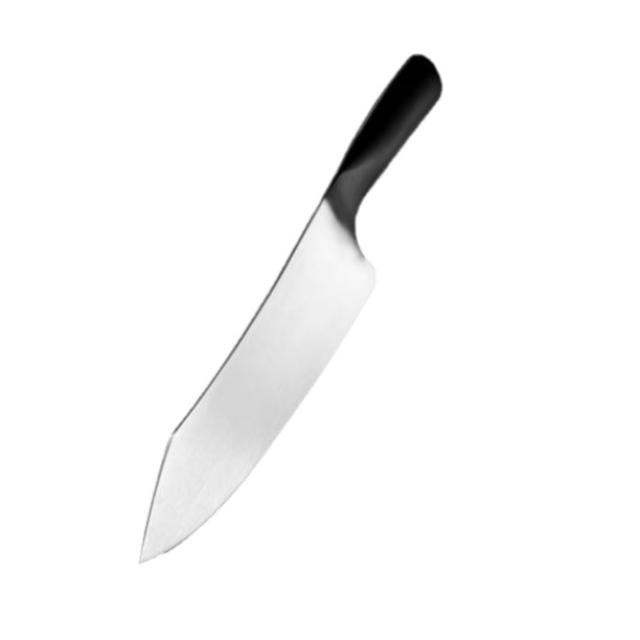knife: (136, 44, 453, 570)
